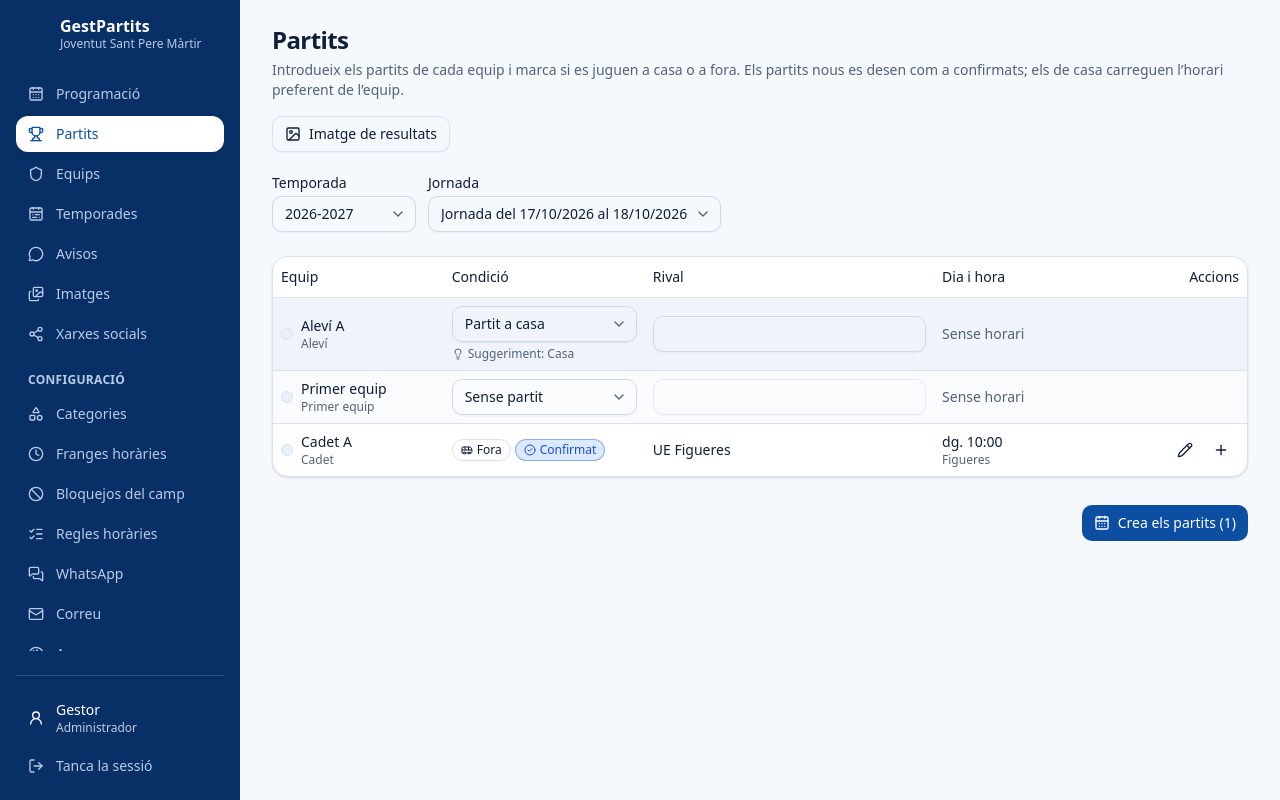
Test case: resultats dels partits › exigeix els gols dels dos equips
The width and height of the screenshot is (1280, 800).
Click the button named "Edita el partit: Cadet A" at coordinates (1185, 450), box [1167,432,1203,468]
(page scrolled)
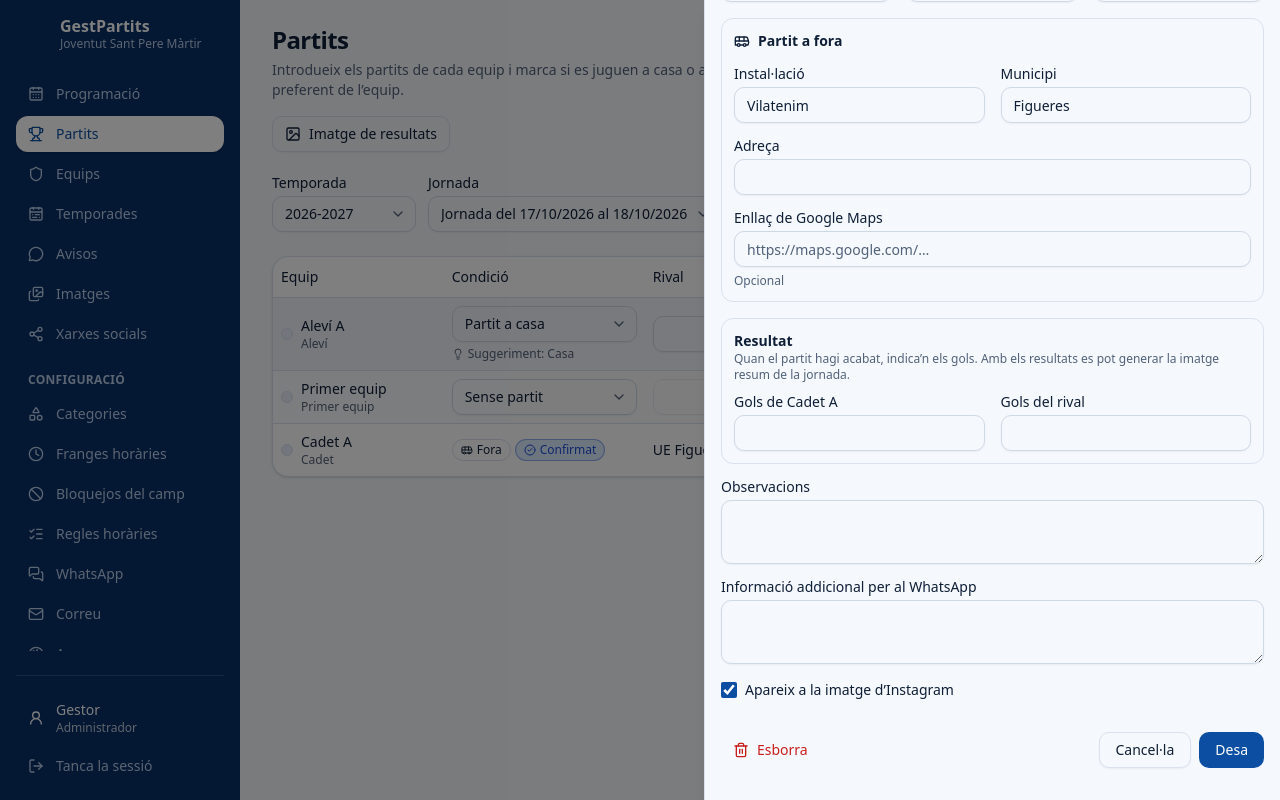
Type "2" into the field labelled "Gols de Cadet A" at coordinates (859, 433), box [734,415,984,451]
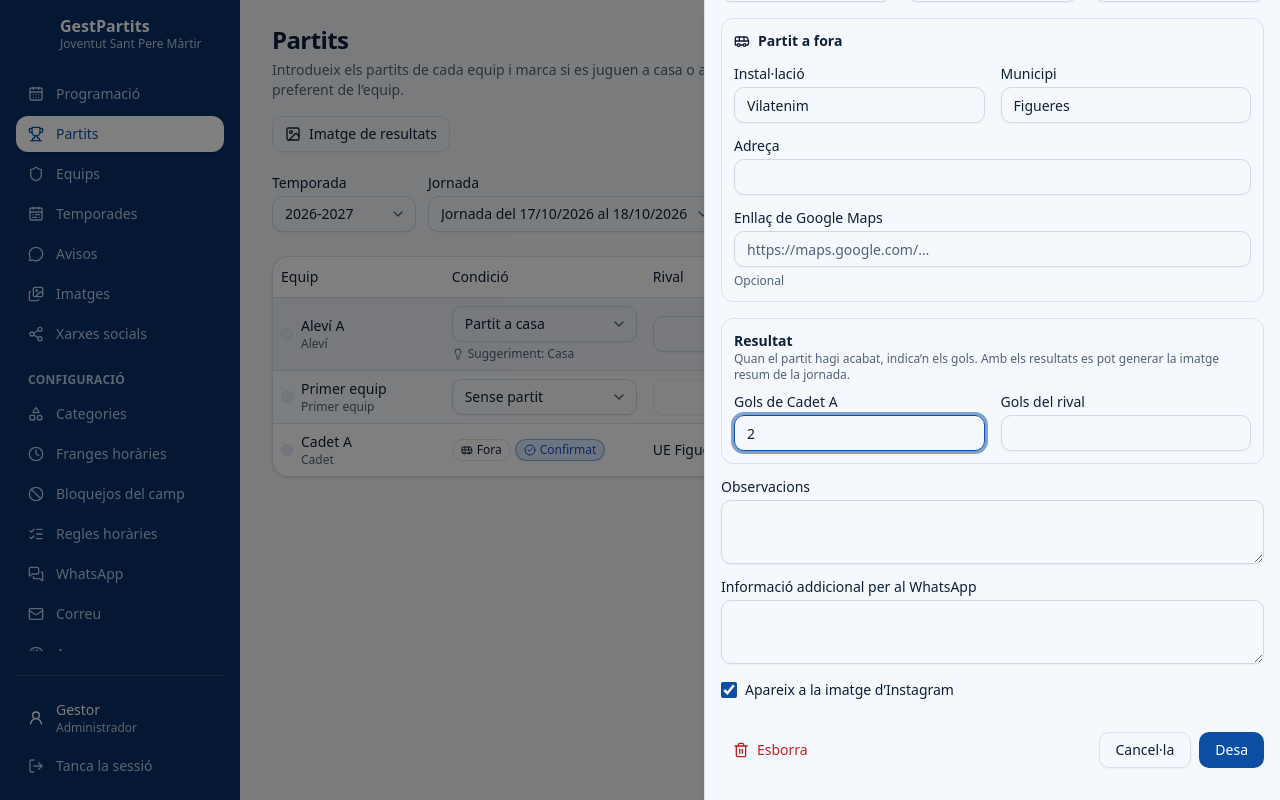
Click the button "Desa" at coordinates (1232, 750), box [1199,732,1264,768]
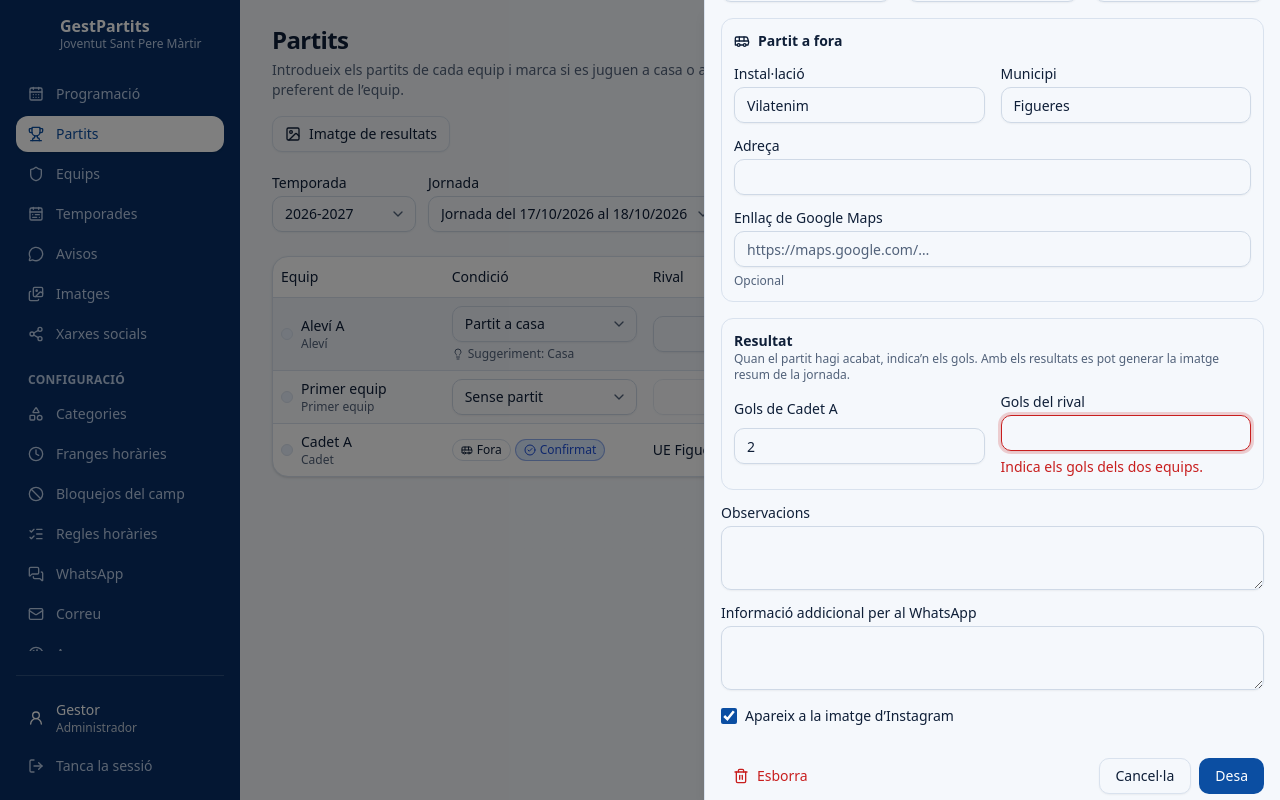
Result: the text "Indica els gols dels dos equips." is shown at [1000,457,1203,476]
